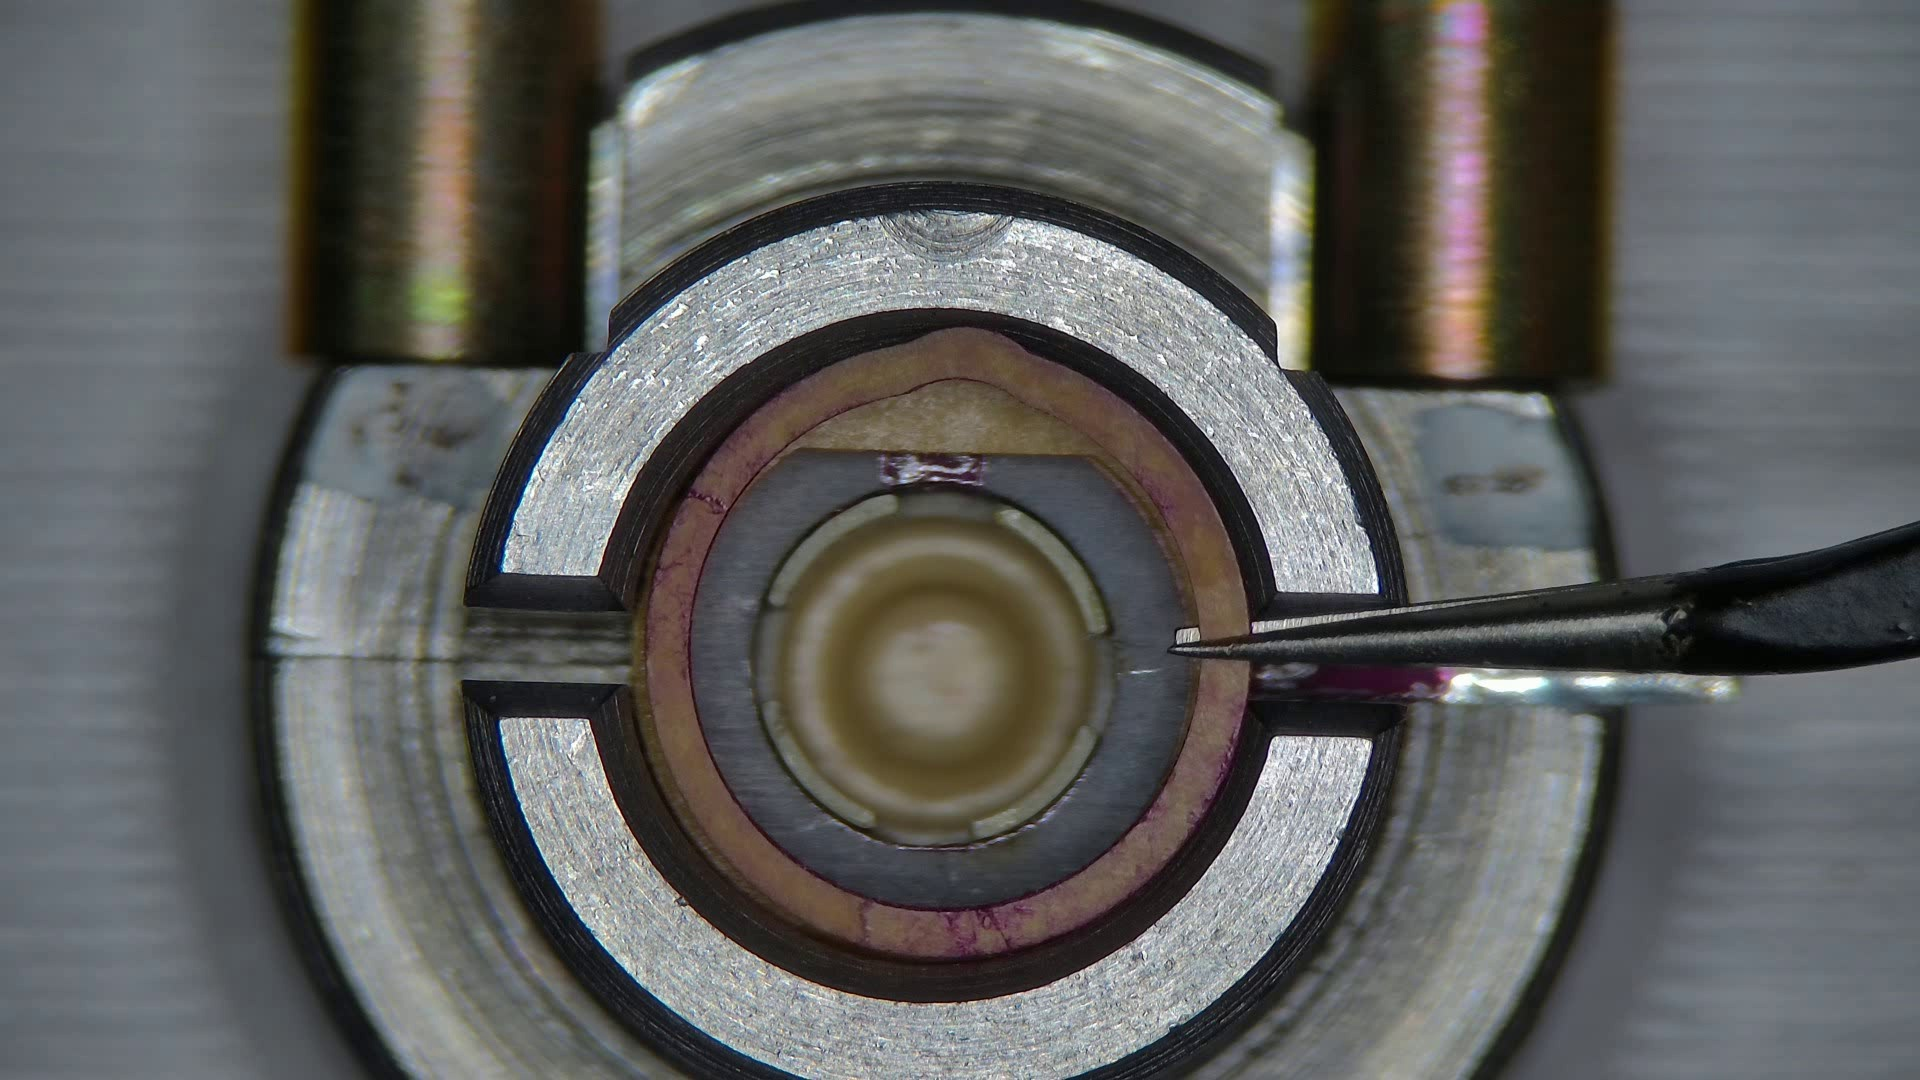GreyOring: (647, 328, 1250, 959)
YellowOring: (691, 450, 1185, 907)
redOring: (791, 380, 1116, 459)
